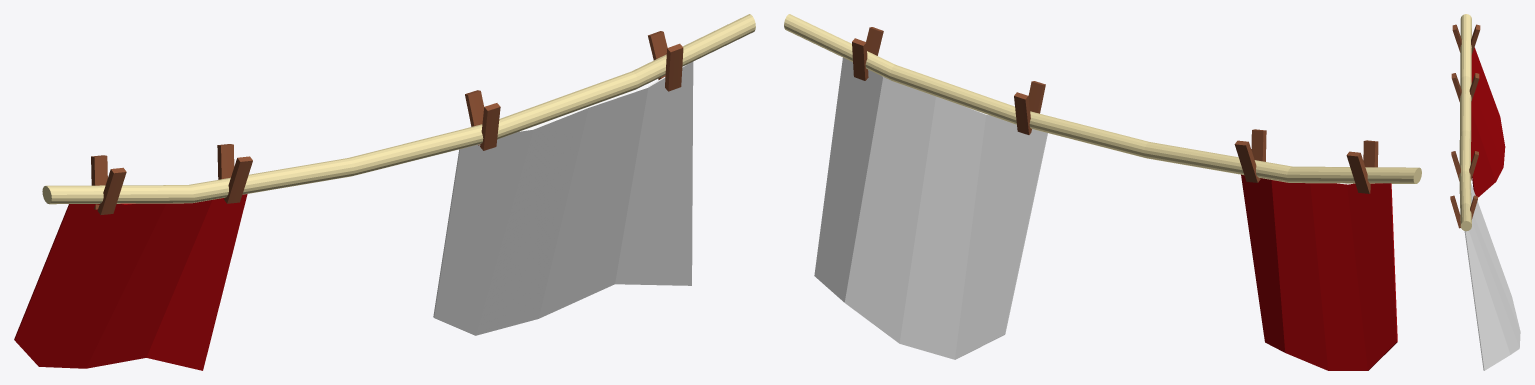
File: Washing frame 2.fbx
3 renders of one model, left to right at view 1: azimuth 30°, elevation 25°; view 2: azimuth 150°, elevation 25°; view 3: azimuth 270°, elevation 25°, orthographic. The views are drawn at different scales.
Visible parts, largest first — view 1: Washing frame 2; view 2: Washing frame 2; view 3: Washing frame 2.
Part boxes in pixels (<box>): Washing frame 2: <box>14,14,755,370</box>; Washing frame 2: <box>784,14,1421,370</box>; Washing frame 2: <box>1450,14,1520,370</box>.
Size of the model in its own units: 254 by 105 by 36.11.
